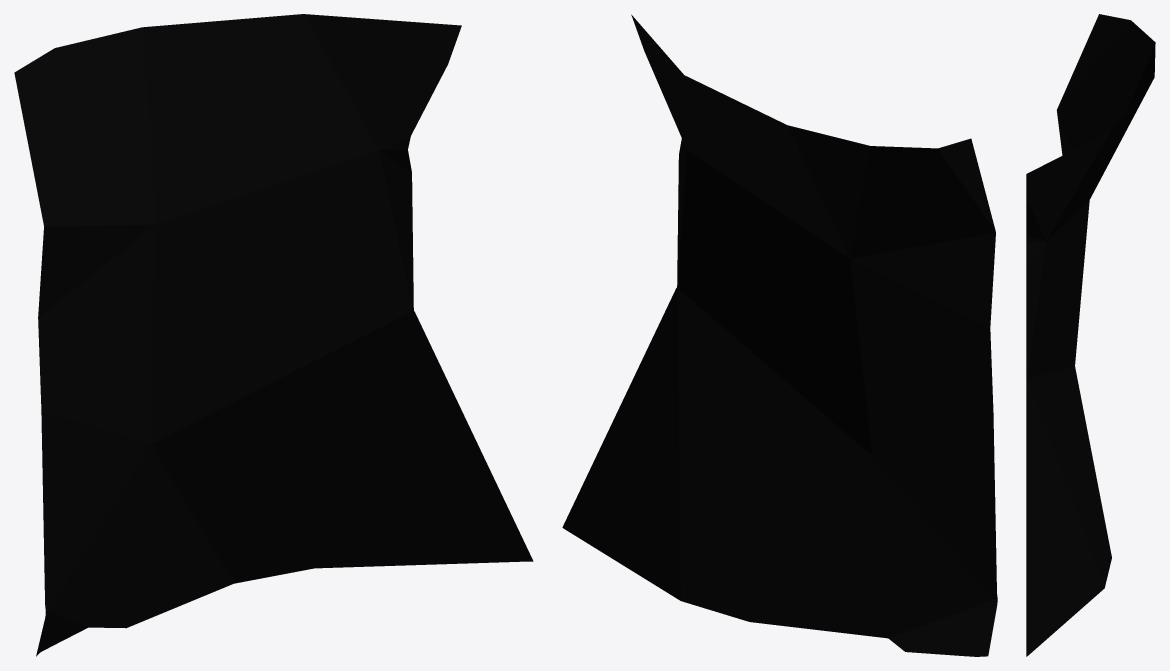
3 renders of one model, left to right at view 1: azimuth 30°, elevation 25°; view 2: azimuth 150°, elevation 25°; view 3: azimuth 270°, elevation 25°, orthographic. The views are drawn at different scales.
Size of the model in its own units: 2.63 by 2.95 by 0.7596.
Materials: 3 (3 with a texture image).
